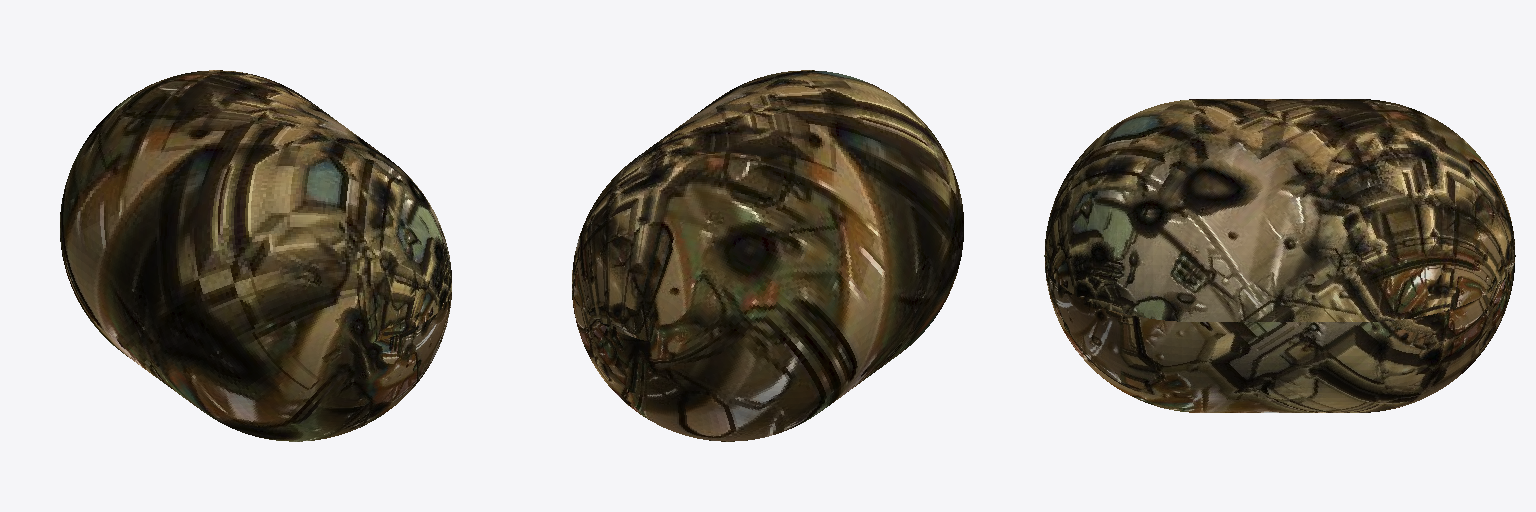
3 renders of one model, left to right at view 1: azimuth 30°, elevation 25°; view 2: azimuth 150°, elevation 25°; view 3: azimuth 270°, elevation 25°, orthographic.
Parts seen in each view (by area): view 1: capsule; view 2: capsule; view 3: capsule.
Part boxes in pixels (left/top/right/bottom): capsule: left=60, top=70, right=451, bottom=441; capsule: left=572, top=70, right=963, bottom=441; capsule: left=1044, top=99, right=1515, bottom=412.
Bounding box in the file's own units: 2 × 2 × 3.
1 materials, 1 textured.